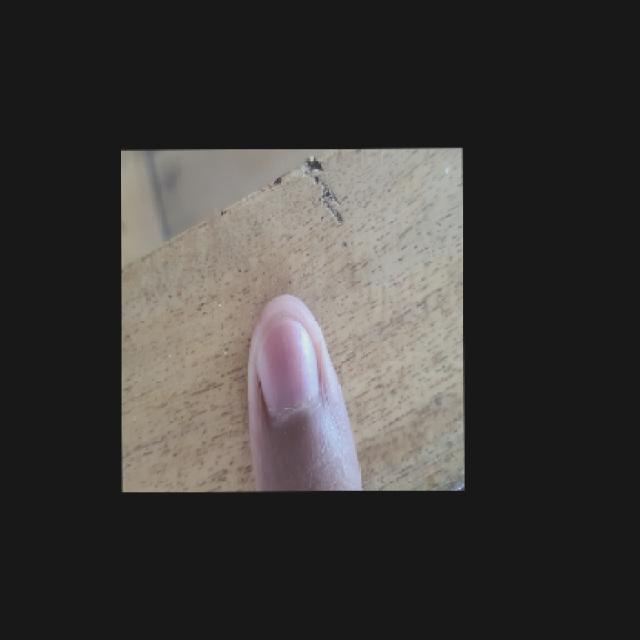Nail: (256, 319, 320, 419)
